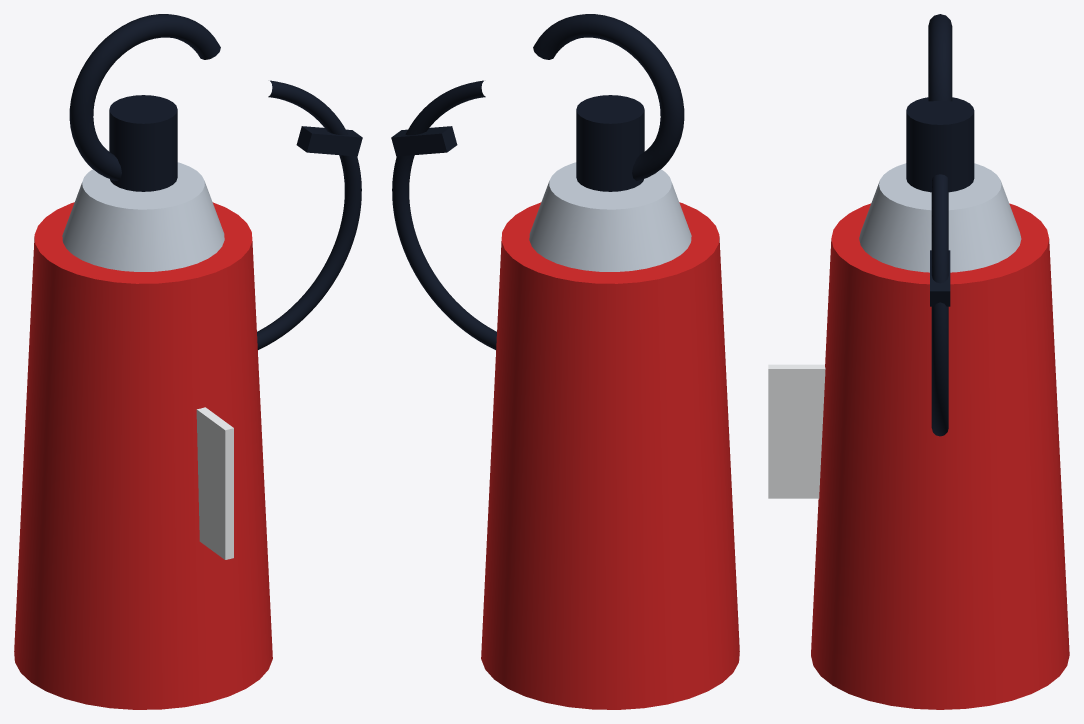
File: fire_extinguisher.glb
The picture shows the model from 3 angles, left to right: view 1: azimuth 30°, elevation 25°; view 2: azimuth 150°, elevation 25°; view 3: azimuth 270°, elevation 25°; orthographic projection.
Parts seen in each view (by area): view 1: red_cylinder_body, valve_cap, handle, neck, hose, front_label, nozzle; view 2: red_cylinder_body, valve_cap, handle, neck, hose, nozzle; view 3: red_cylinder_body, valve_cap, front_label, neck, hose, handle, nozzle.
Boxes of the visible parts, x1=… form: red_cylinder_body: x1=14, y1=202, x2=272, y2=709; valve_cap: x1=62, y1=162, x2=224, y2=271; handle: x1=69, y1=14, x2=220, y2=180; neck: x1=109, y1=95, x2=177, y2=191; hose: x1=257, y1=80, x2=361, y2=349; front_label: x1=196, y1=407, x2=233, y2=559; nozzle: x1=296, y1=126, x2=362, y2=156; red_cylinder_body: x1=481, y1=202, x2=739, y2=709; valve_cap: x1=529, y1=162, x2=691, y2=271; handle: x1=533, y1=14, x2=684, y2=180; neck: x1=576, y1=95, x2=644, y2=191; hose: x1=392, y1=80, x2=496, y2=349; nozzle: x1=391, y1=126, x2=457, y2=156; red_cylinder_body: x1=811, y1=203, x2=1069, y2=709; valve_cap: x1=859, y1=163, x2=1021, y2=272; front_label: x1=768, y1=364, x2=825, y2=498; neck: x1=906, y1=97, x2=974, y2=192; hose: x1=931, y1=174, x2=948, y2=436; handle: x1=928, y1=14, x2=952, y2=101; nozzle: x1=930, y1=250, x2=950, y2=306.
Size of the model in its own units: 1.11 by 2.06 by 0.885.
